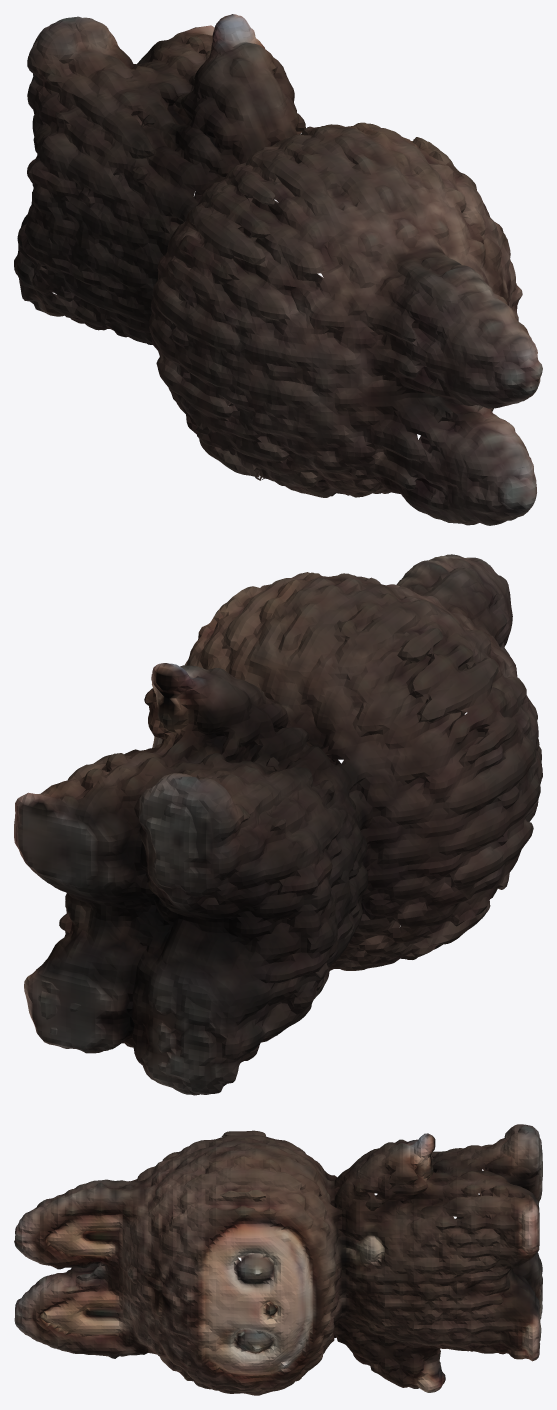
The model's file is labubu.glb.
3 renders of one model, top to bottom at view 1: azimuth 30°, elevation 25°; view 2: azimuth 150°, elevation 25°; view 3: azimuth 270°, elevation 25°, orthographic. The views are drawn at different scales.
Visible parts, largest first — view 1: mesh; view 2: mesh; view 3: mesh.
Boxes of the visible parts, x1=… form: mesh: x1=14, y1=14, x2=542, y2=525; mesh: x1=14, y1=554, x2=542, y2=1095; mesh: x1=14, y1=1124, x2=542, y2=1395.
Bounding box in the file's own units: 0.4741 × 0.5448 × 1.
